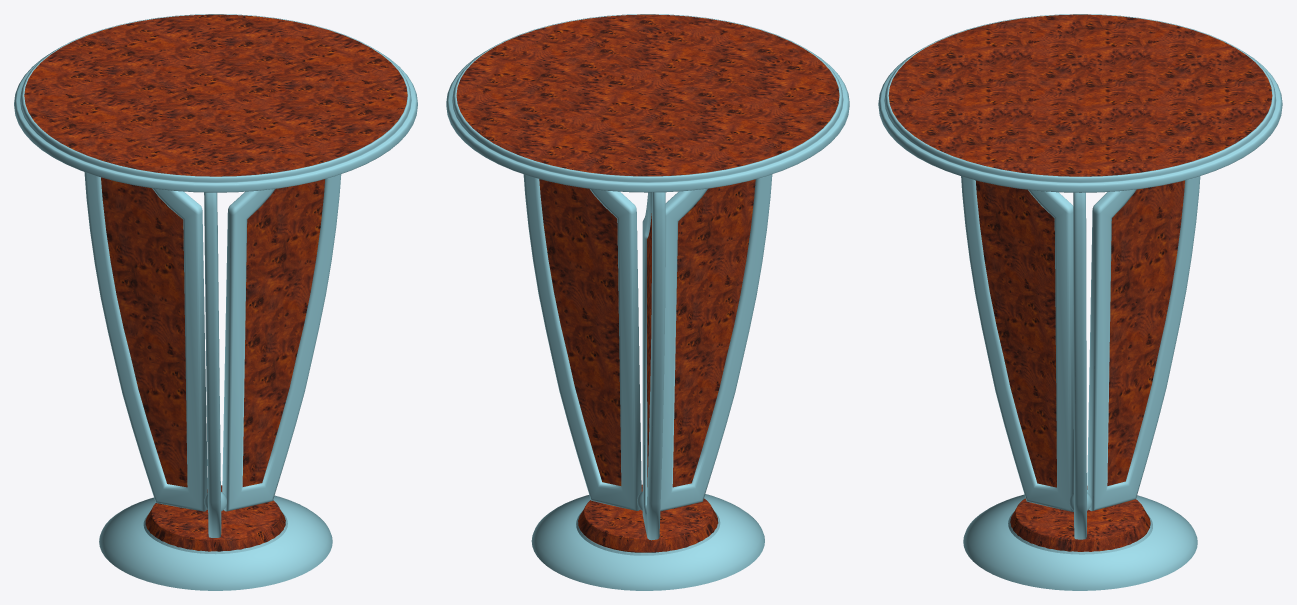
File: Art deco Side Table.obj
3 views of the same model, side by side, from view 1: azimuth 30°, elevation 25°; view 2: azimuth 150°, elevation 25°; view 3: azimuth 270°, elevation 25° (orthographic).
Parts seen in each view (by area): view 1: Cylinder001, Shape002, Sphere001; view 2: Cylinder001, Shape002, Sphere001; view 3: Cylinder001, Shape002, Sphere001.
Boxes of the visible parts, x1=… form: Cylinder001: x1=24, y1=14, x2=407, y2=551; Shape002: x1=84, y1=172, x2=341, y2=537; Sphere001: x1=14, y1=14, x2=417, y2=590; Cylinder001: x1=456, y1=14, x2=839, y2=552; Shape002: x1=523, y1=174, x2=772, y2=540; Sphere001: x1=446, y1=14, x2=849, y2=590; Cylinder001: x1=888, y1=14, x2=1272, y2=551; Shape002: x1=961, y1=176, x2=1200, y2=539; Sphere001: x1=878, y1=14, x2=1282, y2=590.
Size of the model in its own units: 60 by 73.23 by 60.
Materials: 2 (1 with a texture image).
